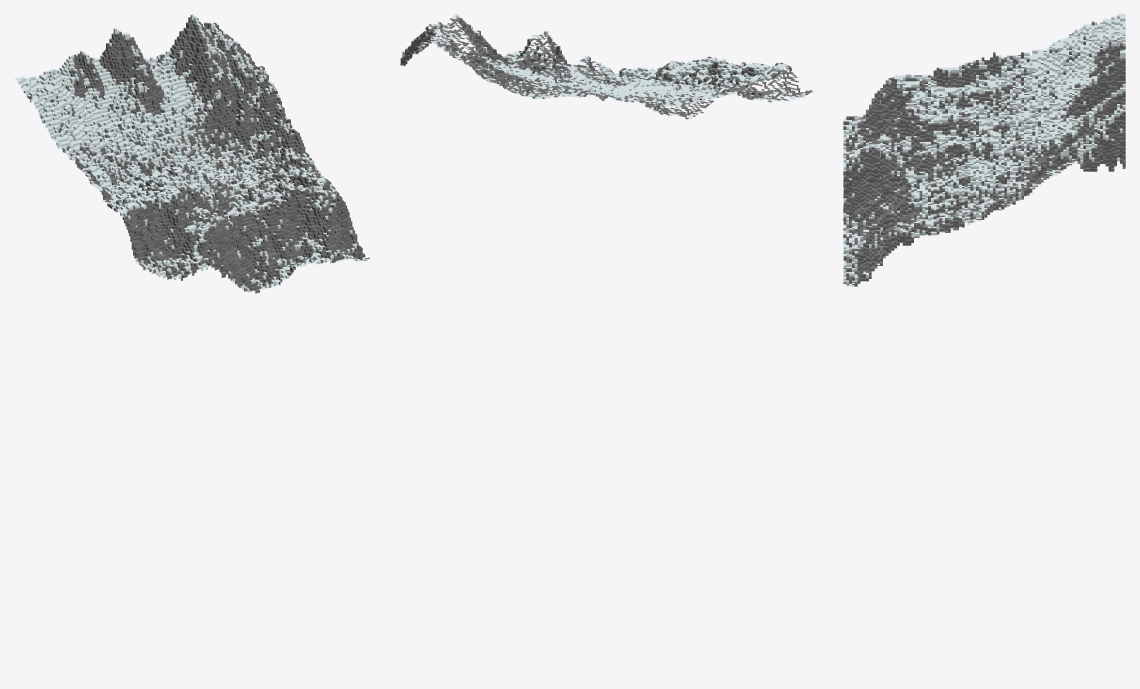
File: chunk4100--1800-lvl-1-transformed.glb
The picture shows the model from 3 angles, left to right: view 1: azimuth 30°, elevation 25°; view 2: azimuth 150°, elevation 25°; view 3: azimuth 270°, elevation 25°; orthographic projection. The views are drawn at different scales.
Parts seen in each view (by area): view 1: Snow_Block, Cobblestone, Stone; view 2: Snow_Block, Stone, Cobblestone; view 3: Snow_Block, Stone, Cobblestone.
Boxes of the visible parts, left/top/right/bottom form: Snow_Block: left=15, top=14, right=368, bottom=292; Cobblestone: left=39, top=18, right=365, bottom=290; Stone: left=28, top=17, right=369, bottom=293; Snow_Block: left=402, top=14, right=814, bottom=118; Stone: left=400, top=17, right=812, bottom=119; Cobblestone: left=400, top=18, right=811, bottom=116; Snow_Block: left=843, top=14, right=1125, bottom=286; Stone: left=843, top=21, right=1125, bottom=285; Cobblestone: left=843, top=34, right=1125, bottom=286.
Size of the model in its own units: 100 by 223 by 100.
14 materials, 14 textured.
